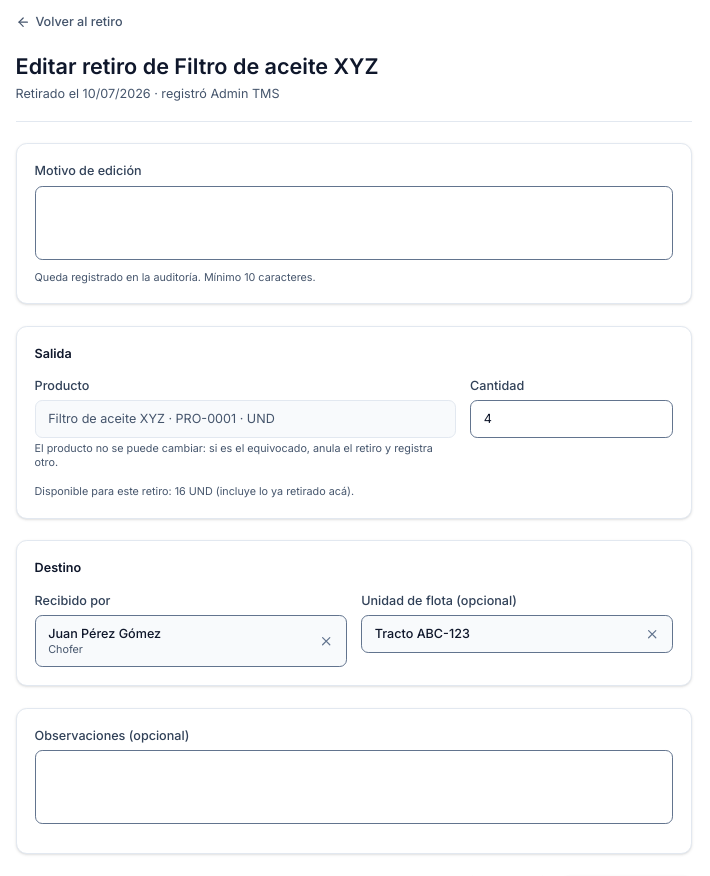
Scenario: WithdrawalEditPage › quitar la unidad de flota deja el combobox vacío
Click the button named "quitar selección" in the row of "Tracto ABC-123" at (653, 634), box [645,627,660,641]
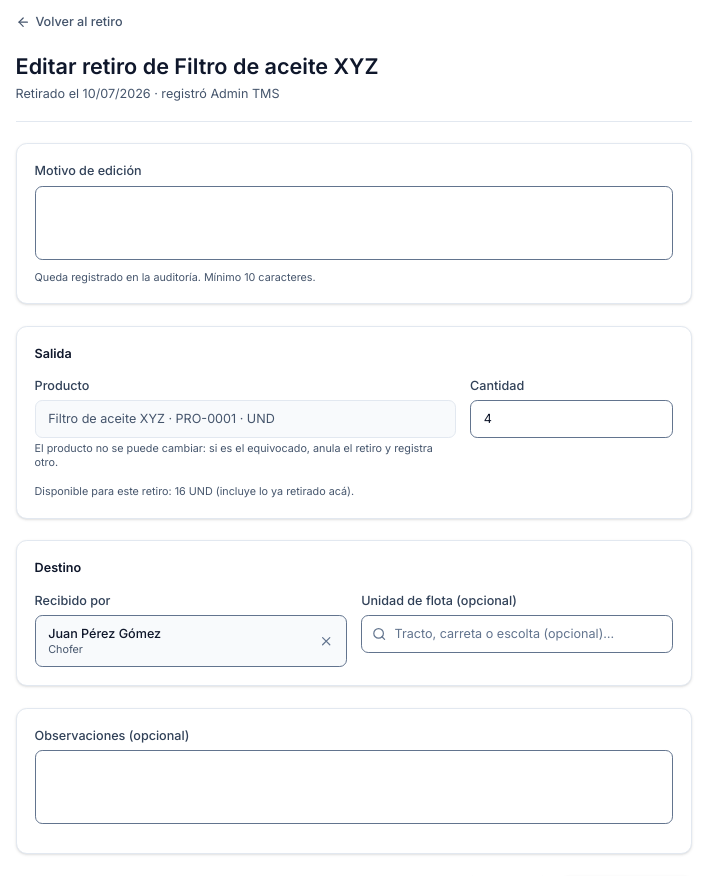
Expected: the dropdown labelled "Unidad de flota (opcional)" is empty, [361,615,673,653]
Expected: the text "Tracto ABC-123" is gone
